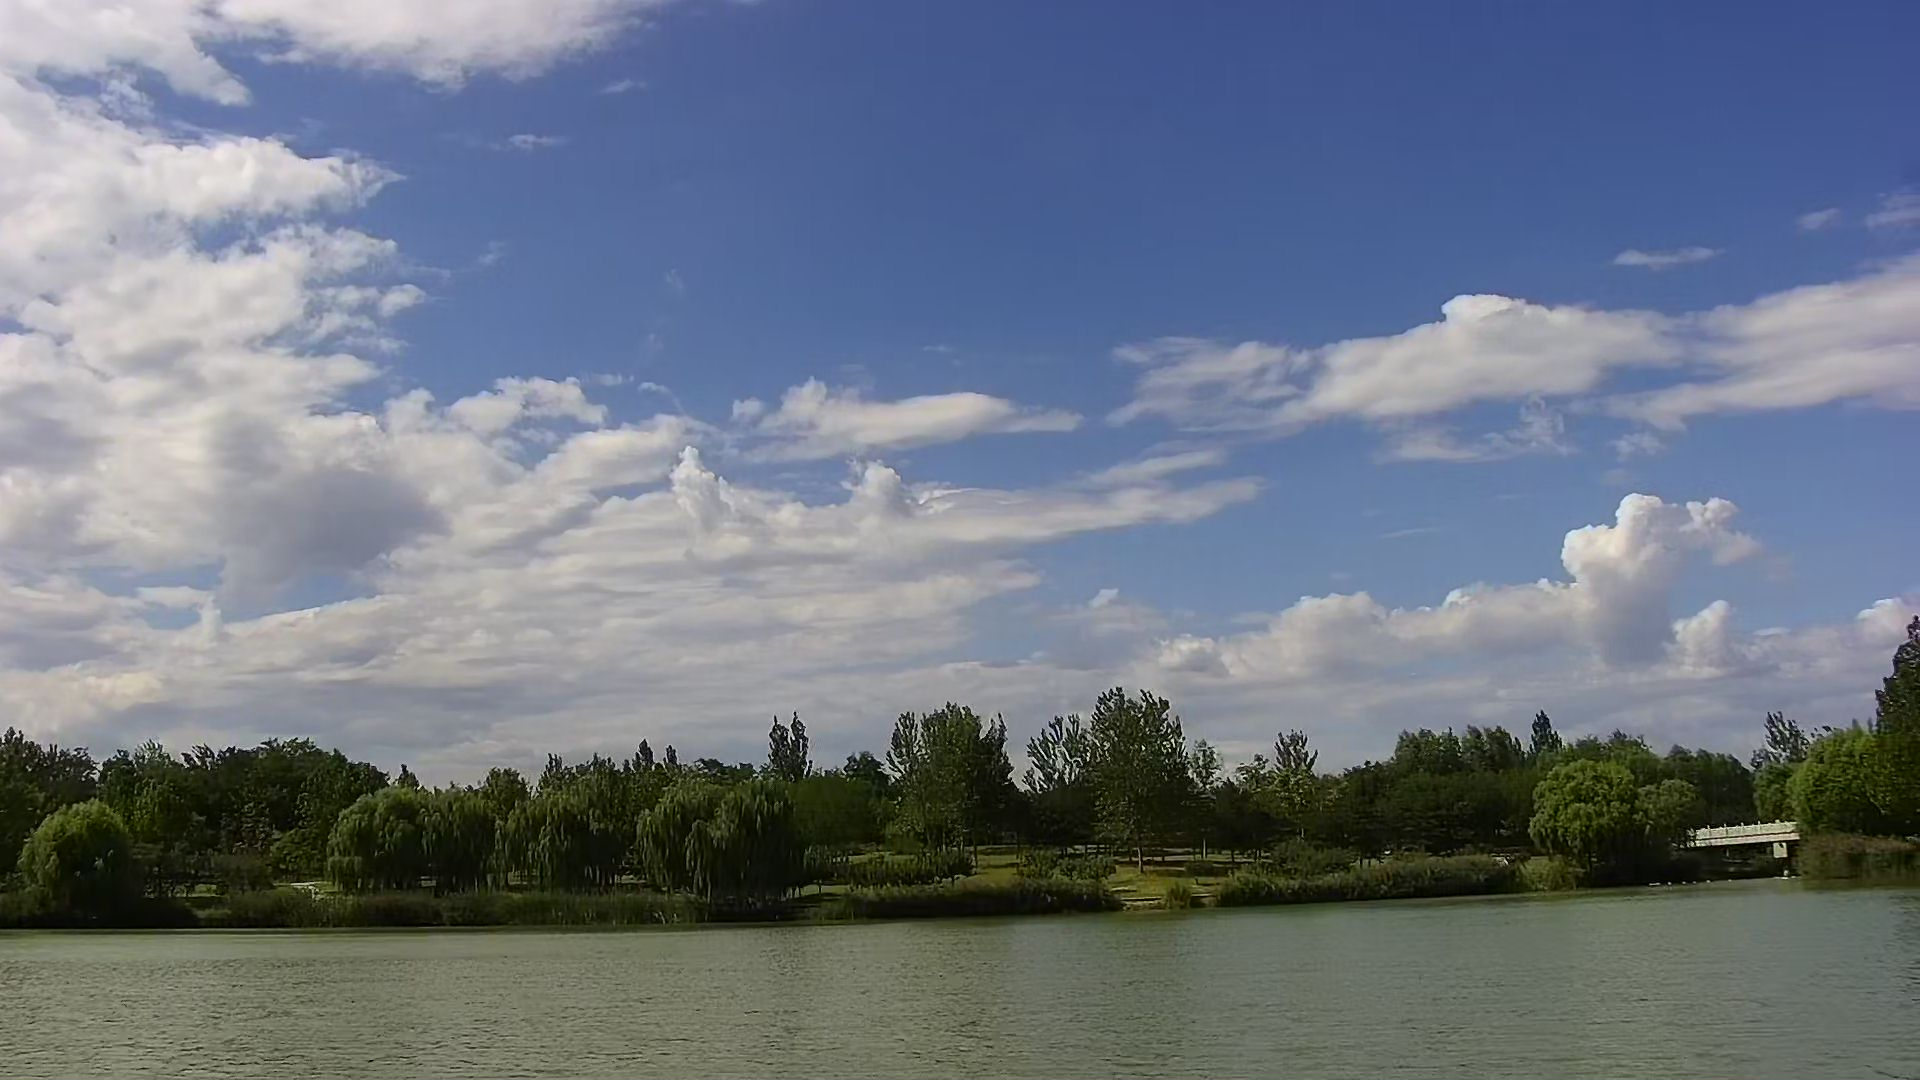bridge: (1692, 818, 1800, 874)
